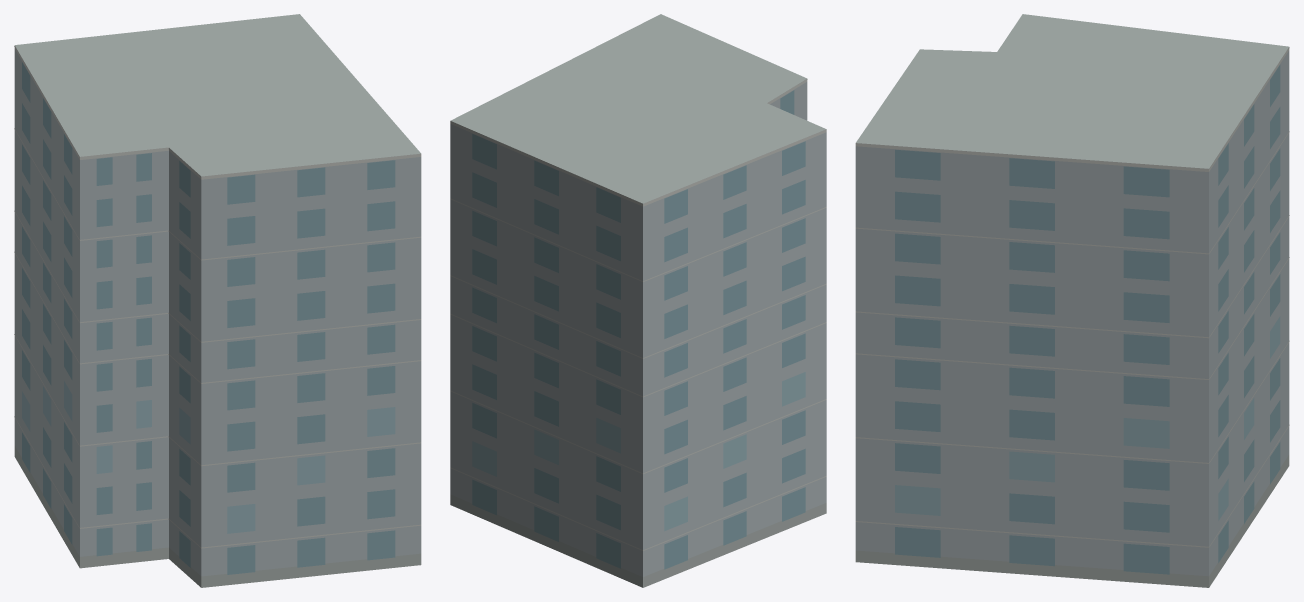
The model's file is residential-72dd4166-1087-40f6-af10-4a89cf9d56c3.glb.
The picture shows the model from 3 angles, left to right: view 1: azimuth 30°, elevation 25°; view 2: azimuth 150°, elevation 25°; view 3: azimuth 270°, elevation 25°; orthographic projection. The views are drawn at different scales.
Parts seen in each view (by area): view 1: residential-72dd4166-1087-40f6-af10-4a89cf9d56c3.tmp; view 2: residential-72dd4166-1087-40f6-af10-4a89cf9d56c3.tmp; view 3: residential-72dd4166-1087-40f6-af10-4a89cf9d56c3.tmp.
Boxes of the visible parts, x1,y1,x2,y2 form: residential-72dd4166-1087-40f6-af10-4a89cf9d56c3.tmp: (14, 14, 421, 587); residential-72dd4166-1087-40f6-af10-4a89cf9d56c3.tmp: (450, 14, 826, 587); residential-72dd4166-1087-40f6-af10-4a89cf9d56c3.tmp: (855, 14, 1289, 587).
Bounding box in the file's own units: 24.58 × 31 × 29.1.
